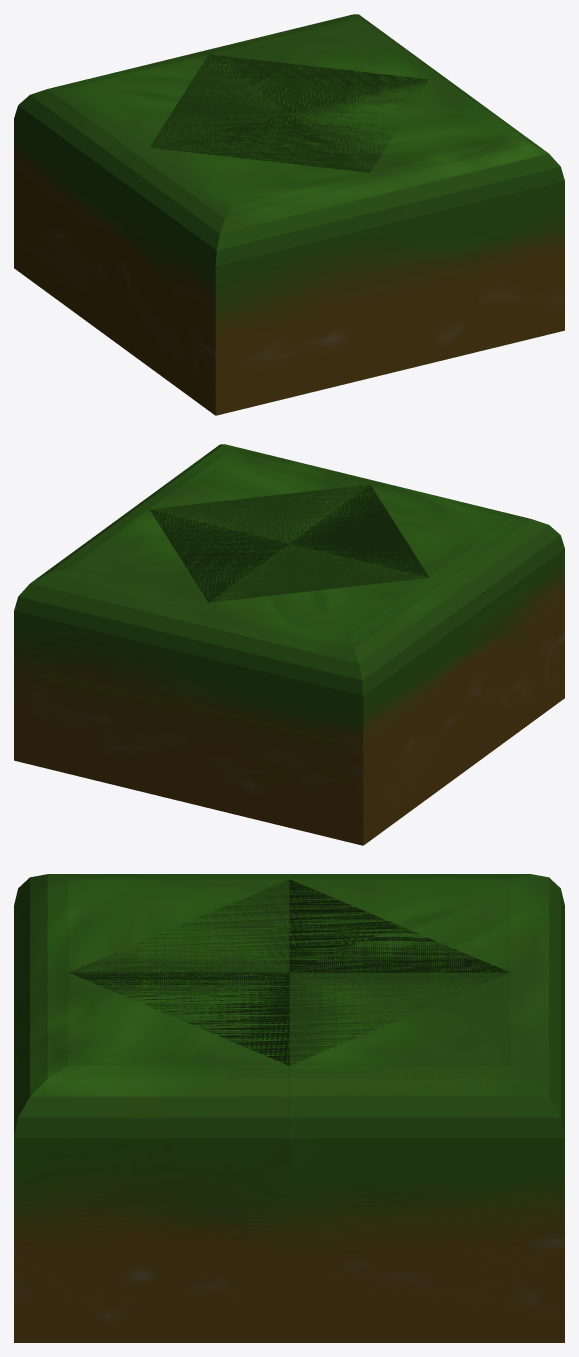
The model's file is UGrassTile.fbx.
The picture shows the model from 3 angles, top to bottom: view 1: azimuth 30°, elevation 25°; view 2: azimuth 150°, elevation 25°; view 3: azimuth 270°, elevation 25°; orthographic projection. The views are drawn at different scales.
Visible parts, largest first — view 1: Cube; view 2: Cube; view 3: Cube.
Boxes of the visible parts, <box> form: Cube: <box>14,14,564,415</box>; Cube: <box>14,444,564,845</box>; Cube: <box>14,874,564,1342</box>.
Bounding box in the file's own units: 200 × 200 × 102.
Materials: 1 (1 with a texture image).
